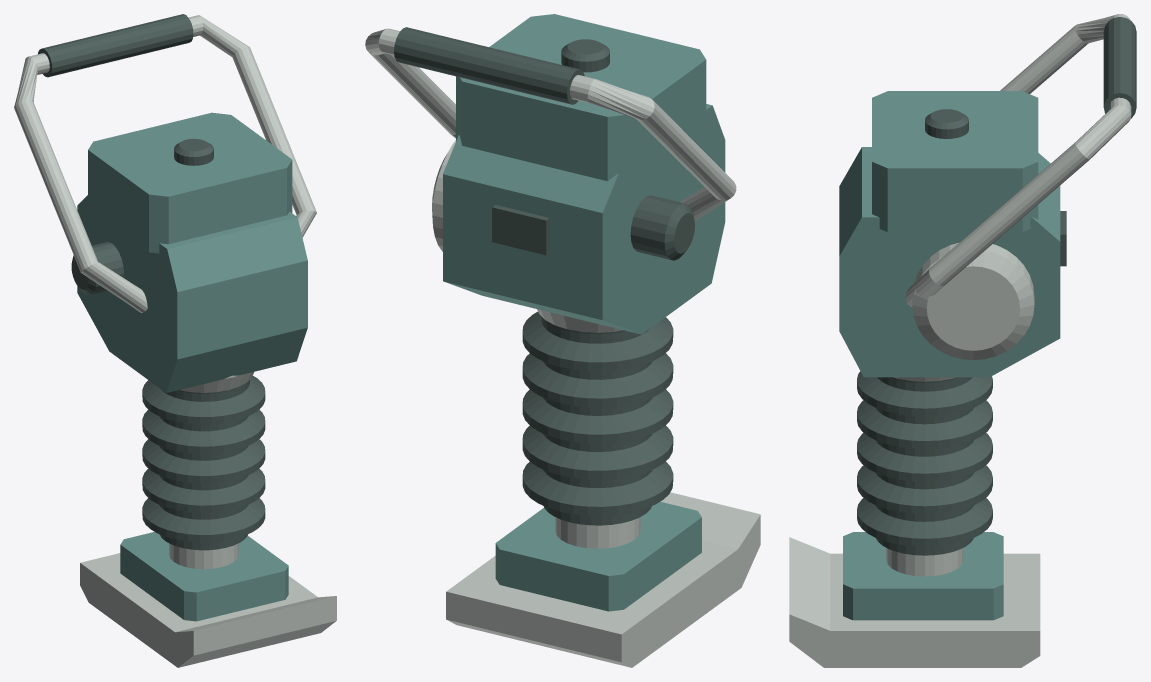
The picture shows the model from 3 angles, left to right: view 1: azimuth 30°, elevation 25°; view 2: azimuth 150°, elevation 25°; view 3: azimuth 270°, elevation 25°; orthographic projection. The views are drawn at different scales.
Visible parts, largest first — view 1: WholeOffsetUpperDriveBody, WholeUpperTankExterior, WholeContinuousCorrugatedLegBoot, WholeNarrowGroundShoe, WholeWraparoundUpperHandle, WholeRaisedShoeMount, WholeUpperCrossGrip, WholeLowerFixedLeg, WholeClosedLeftSideCanister, WholeProudBlankTopCap, WholeUpperLegCollar; view 2: WholeOffsetUpperDriveBody, WholeContinuousCorrugatedLegBoot, WholeUpperTankExterior, WholeNarrowGroundShoe, WholeRaisedShoeMount, WholeWraparoundUpperHandle, WholeUpperCrossGrip, WholeClosedLeftSideCanister, WholeBlankRearControl, WholeLowerFixedLeg, WholeProudBlankTopCap, WholeRightEngineSideCover (+1 smaller); view 3: WholeContinuousCorrugatedLegBoot, WholeOffsetUpperDriveBody, WholeUpperTankExterior, WholeNarrowGroundShoe, WholeRaisedShoeMount, WholeRightEngineSideCover, WholeWraparoundUpperHandle, WholeUpperCrossGrip, WholeLowerFixedLeg, WholeProudBlankTopCap.
Boxes of the visible parts, left/top/right/bottom form: WholeOffsetUpperDriveBody: left=77, top=195, right=307, bottom=392; WholeUpperTankExterior: left=88, top=112, right=292, bottom=253; WholeContinuousCorrugatedLegBoot: left=142, top=376, right=265, bottom=550; WholeNarrowGroundShoe: left=80, top=553, right=336, bottom=667; WholeWraparoundUpperHandle: left=14, top=15, right=316, bottom=312; WholeRaisedShoeMount: left=120, top=532, right=288, bottom=621; WholeUpperCrossGrip: left=38, top=14, right=193, bottom=77; WholeLowerFixedLeg: left=169, top=543, right=238, bottom=569; WholeClosedLeftSideCanister: left=71, top=242, right=123, bottom=295; WholeProudBlankTopCap: left=174, top=138, right=213, bottom=165; WholeUpperLegCollar: left=179, top=372, right=253, bottom=392; WholeOffsetUpperDriveBody: left=443, top=104, right=725, bottom=334; WholeContinuousCorrugatedLegBoot: left=522, top=311, right=673, bottom=525; WholeUpperTankExterior: left=456, top=14, right=706, bottom=186; WholeNarrowGroundShoe: left=446, top=492, right=760, bottom=667; WholeRaisedShoeMount: left=495, top=501, right=701, bottom=611; WholeWraparoundUpperHandle: left=365, top=28, right=736, bottom=220; WholeUpperCrossGrip: left=394, top=27, right=584, bottom=104; WholeClosedLeftSideCanister: left=630, top=195, right=694, bottom=260; WholeBlankRearControl: left=492, top=205, right=549, bottom=255; WholeLowerFixedLeg: left=555, top=517, right=640, bottom=548; WholeProudBlankTopCap: left=561, top=39, right=609, bottom=72; WholeRightEngineSideCover: left=432, top=140, right=455, bottom=251; WholeContinuousCorrugatedLegBoot: left=857, top=371, right=992, bottom=555; WholeOffsetUpperDriveBody: left=839, top=147, right=1060, bottom=377; WholeUpperTankExterior: left=872, top=91, right=1038, bottom=232; WholeNarrowGroundShoe: left=789, top=537, right=1040, bottom=667; WholeRaisedShoeMount: left=843, top=532, right=1003, bottom=620; WholeRightEngineSideCover: left=912, top=243, right=1034, bottom=360; WholeWraparoundUpperHandle: left=905, top=14, right=1131, bottom=307; WholeUpperCrossGrip: left=1103, top=17, right=1136, bottom=118; WholeLowerFixedLeg: left=886, top=548, right=963, bottom=576; WholeProudBlankTopCap: left=925, top=109, right=968, bottom=138.
Size of the model in its own units: 0.4754 by 1.01 by 0.551.
